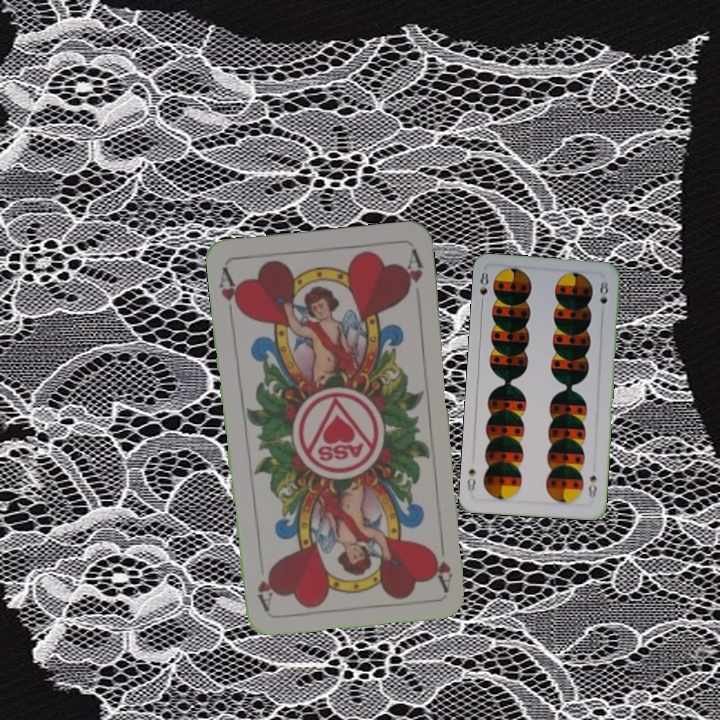HA: (215, 263, 245, 318), (428, 534, 455, 593)
S8: (476, 268, 491, 308), (584, 471, 599, 500)
